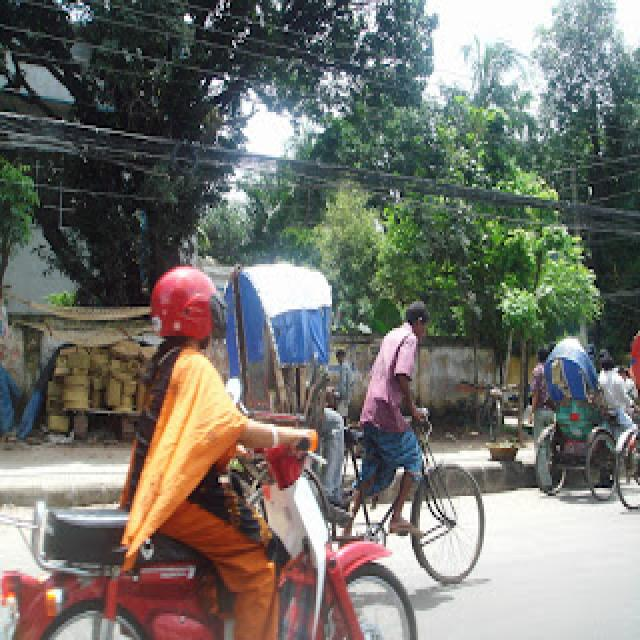bike: (8, 421, 426, 640)
